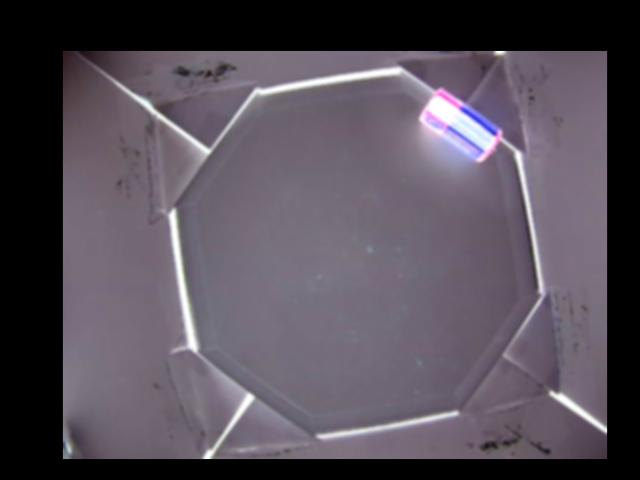Battery: (416, 87, 503, 163)
